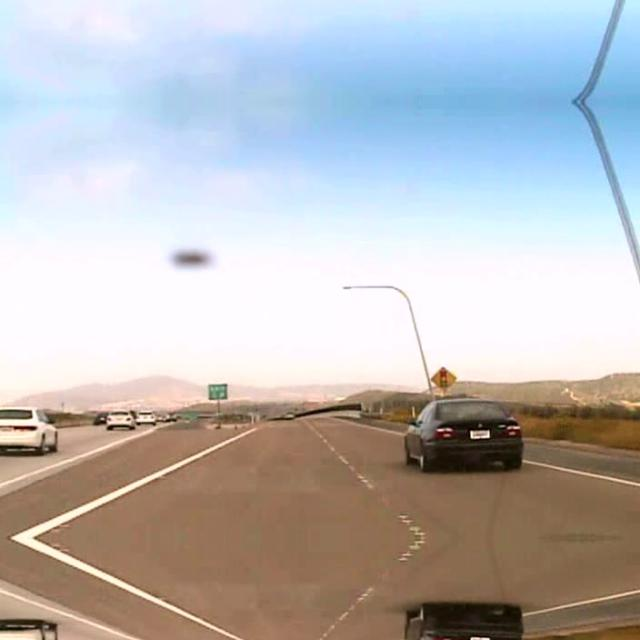signalAhead: (429, 366, 456, 390)
